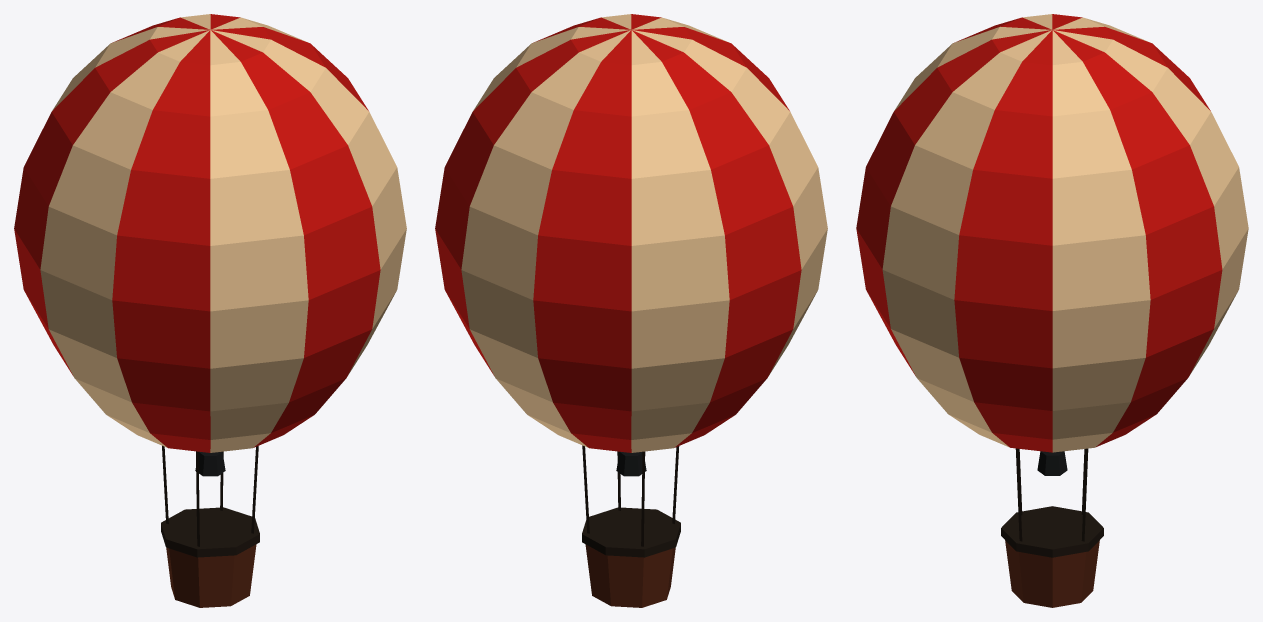
Rendered from balloon.glb.
3 renders of one model, left to right at view 1: azimuth 30°, elevation 25°; view 2: azimuth 150°, elevation 25°; view 3: azimuth 270°, elevation 25°, orthographic.
Visible parts, largest first — view 1: balloon; view 2: balloon; view 3: balloon.
Boxes of the visible parts, box(x1,y1,x2,y2) form: balloon: box(14, 14, 406, 607); balloon: box(435, 14, 827, 607); balloon: box(856, 14, 1248, 607).
Bounding box in the file's own units: 2.6 × 4.1 × 2.6.
Materials: 1 (1 with a texture image).
